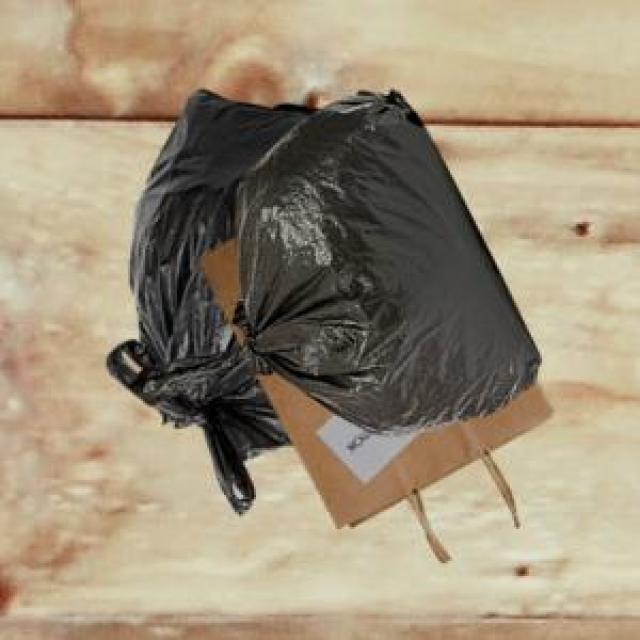miscellaneous trash: (124, 85, 538, 433), (102, 85, 313, 510)
paper: (196, 233, 548, 559)
